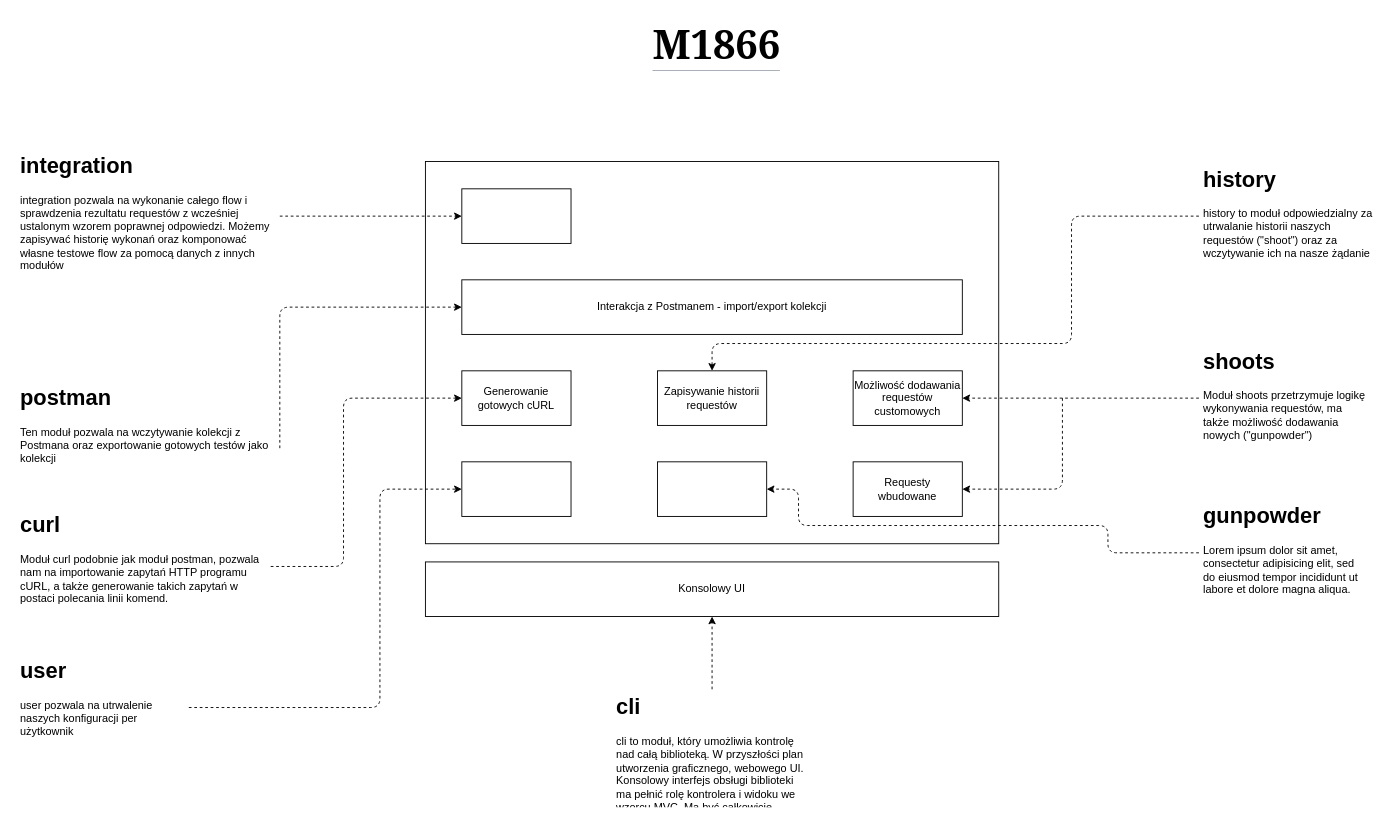
This 1396x828 diagram has some shape labels left out. Here are the shapes that lost their labels. From the top down, the centre of each, then its label:
the point at 516,215: Możliwość puszczenia testów integracyjnych
the point at 516,488: Trzymanie konfiguracji per użytkownik
the point at 712,488: Możliwość trzymania danych potrzebnych do requestów
